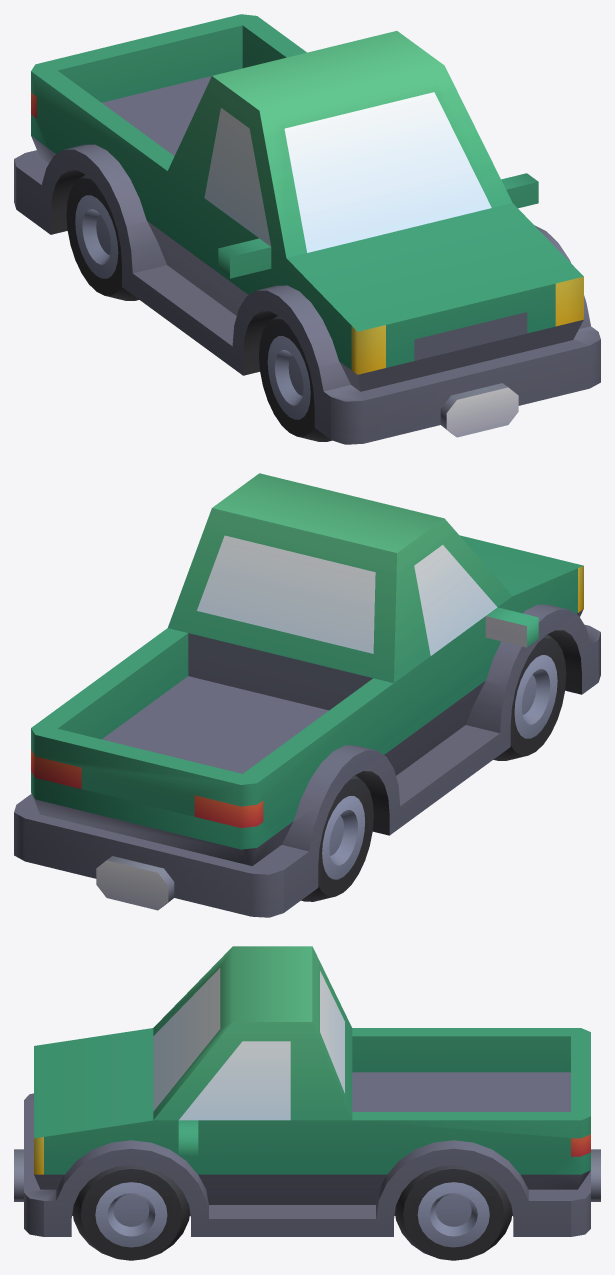
File: lastbil.glb
3 views of the same model, one above another, from view 1: azimuth 30°, elevation 25°; view 2: azimuth 150°, elevation 25°; view 3: azimuth 270°, elevation 25° (orthographic). The views are drawn at different scales.
Parts seen in each view (by area): view 1: body, wheel-front-right, wheel-back-right; view 2: body, wheel-front-right, wheel-back-right; view 3: body, wheel-front-left, wheel-back-left.
Part boxes in pixels (bbox=[...]): body: bbox=[14, 14, 600, 444]; wheel-front-right: bbox=[259, 315, 331, 441]; wheel-back-right: bbox=[66, 174, 138, 300]; body: bbox=[14, 473, 600, 917]; wheel-front-right: bbox=[493, 634, 566, 760]; wheel-back-right: bbox=[301, 775, 373, 901]; body: bbox=[14, 946, 600, 1236]; wheel-front-left: bbox=[72, 1165, 189, 1260]; wheel-back-left: bbox=[395, 1165, 512, 1260].
Bounding box in the file's own units: 1.5 × 1.3 × 2.95.
Materials: 1 (1 with a texture image).
